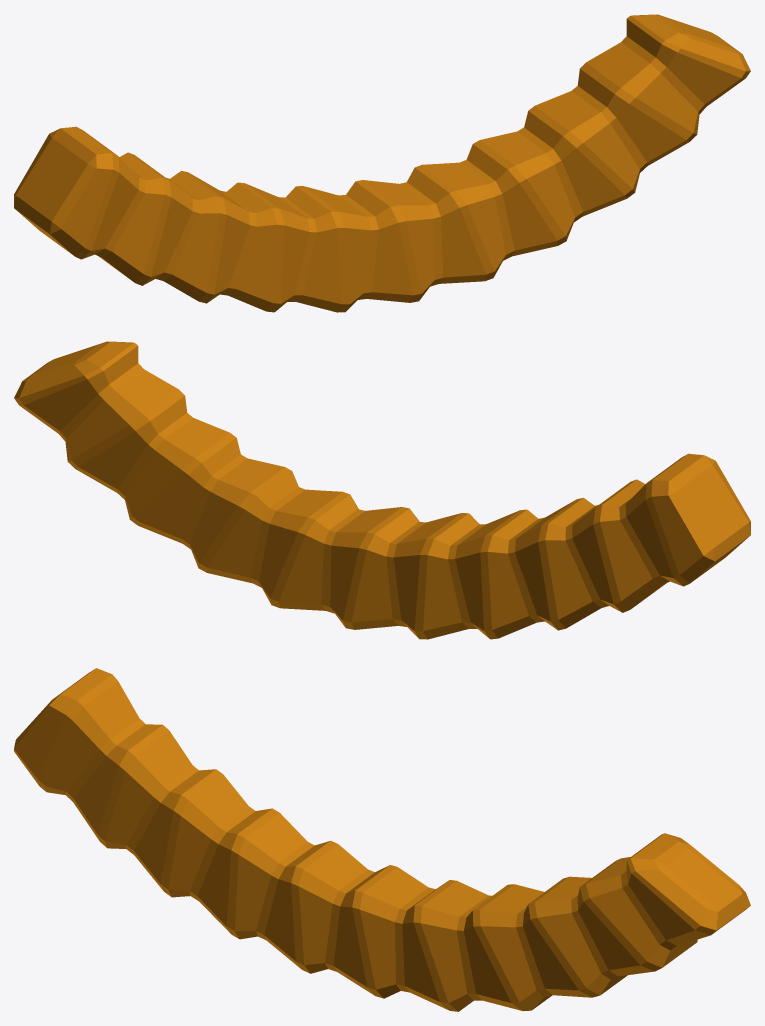
The model's file is canesfry-simp6.obj.
The picture shows the model from 3 angles, top to bottom: view 1: azimuth 30°, elevation 25°; view 2: azimuth 150°, elevation 25°; view 3: azimuth 330°, elevation 25°; orthographic projection.
Visible parts, largest first — view 1: Cube; view 2: Cube; view 3: Cube.
Part boxes in pixels (x1,y1,x2,y2): Cube: (14, 14, 750, 312); Cube: (14, 341, 750, 639); Cube: (14, 668, 750, 1011).
Bounding box in the file's own units: 45.37 × 13.96 × 5.31.
